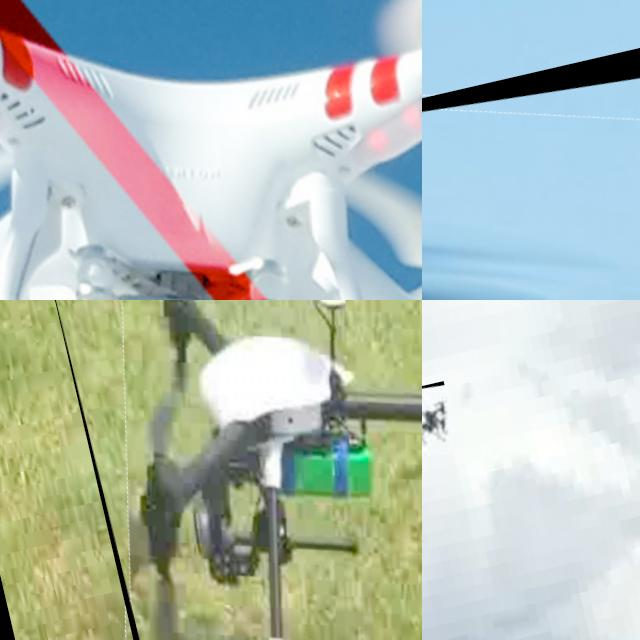drone: (38, 300, 422, 640), (0, 0, 422, 300), (422, 0, 640, 300), (422, 380, 459, 462)
